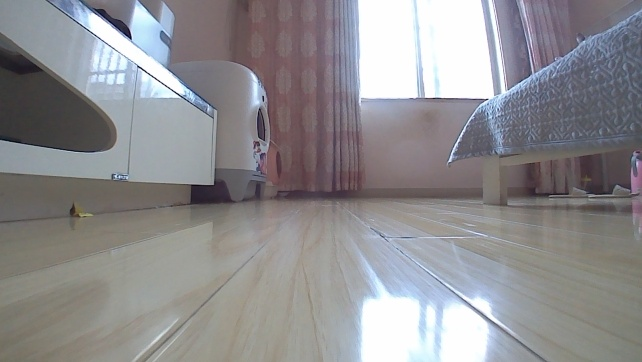TV_stand1: (0, 0, 220, 225)
bed1: (442, 7, 641, 207)
slipper: (587, 183, 640, 199), (546, 185, 594, 200)
